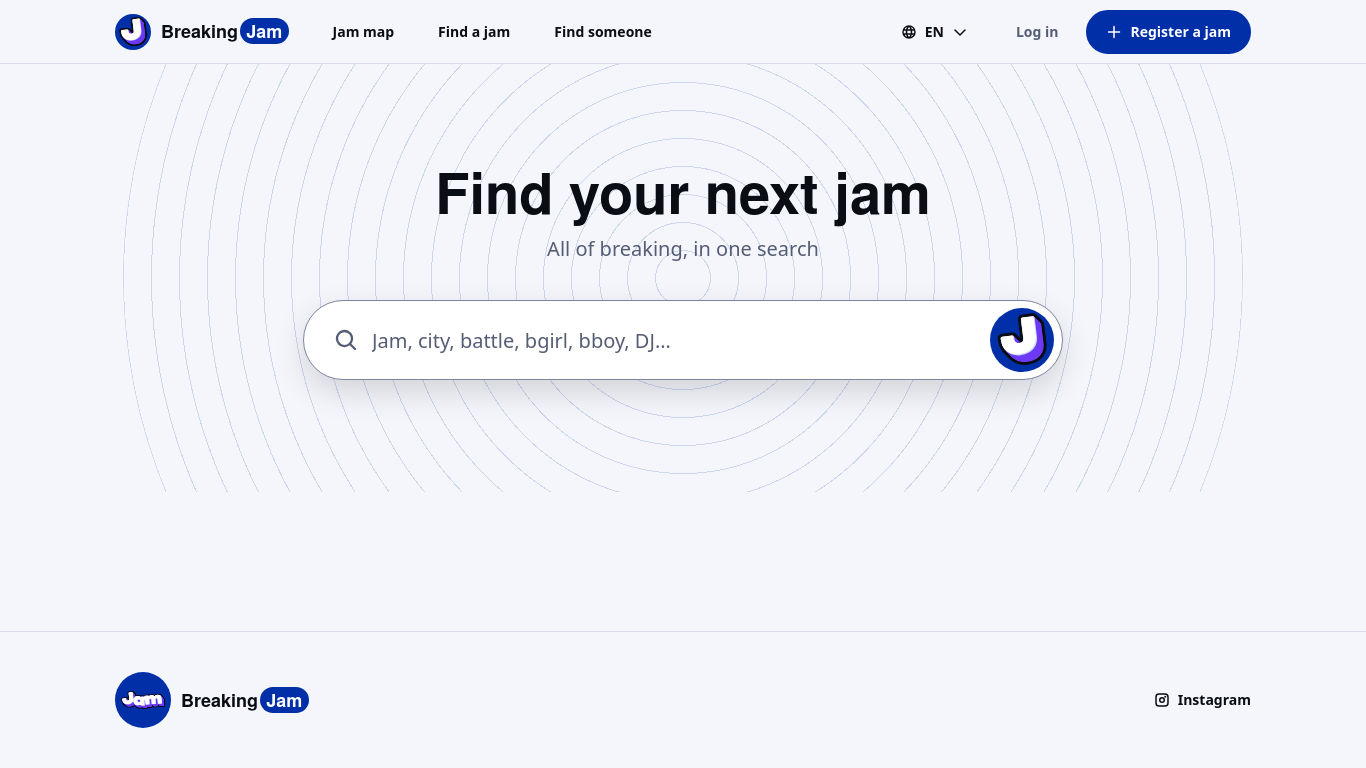
Test: Header › switches language from the listbox and remembers it
Click the button with aria-label "Language: English" at (934, 32), box [881,10,988,54]
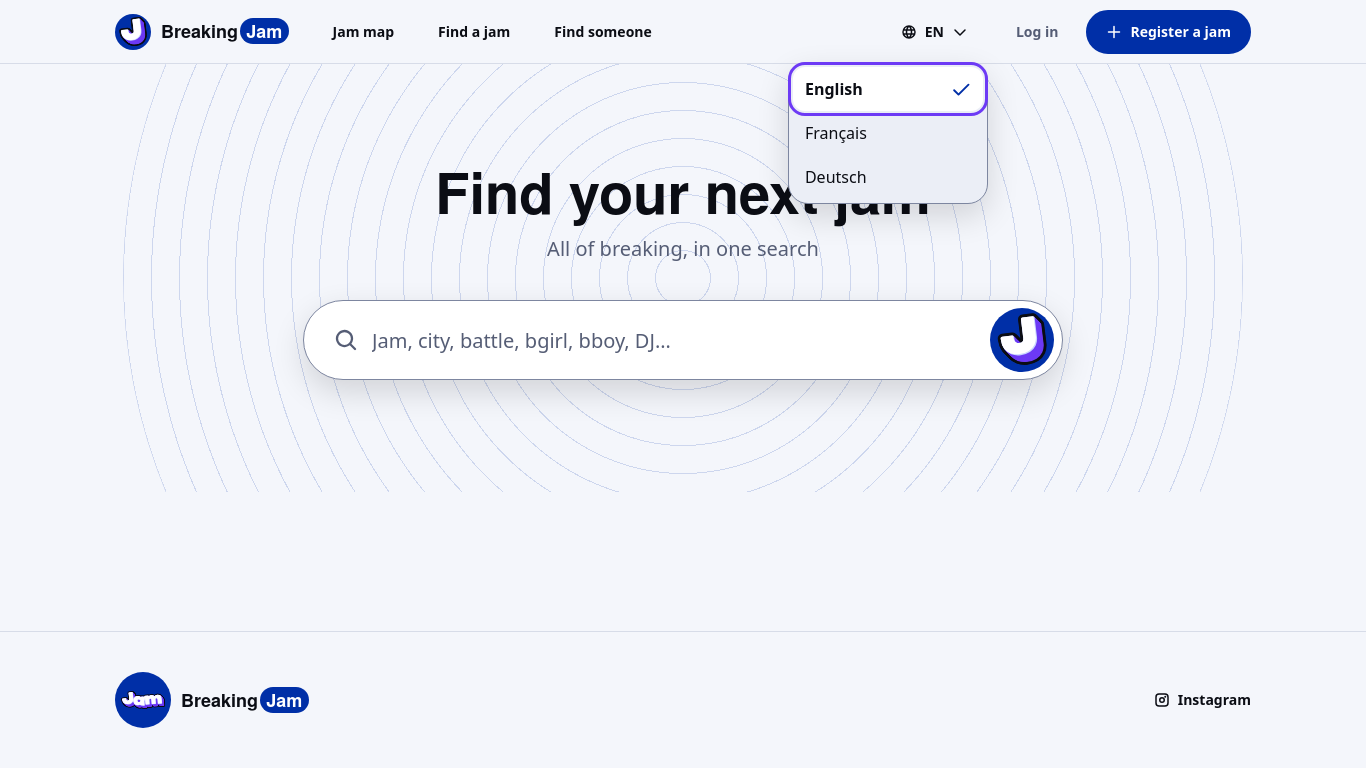
Click the option "Français" at (836, 132), box [805,122,867,144]
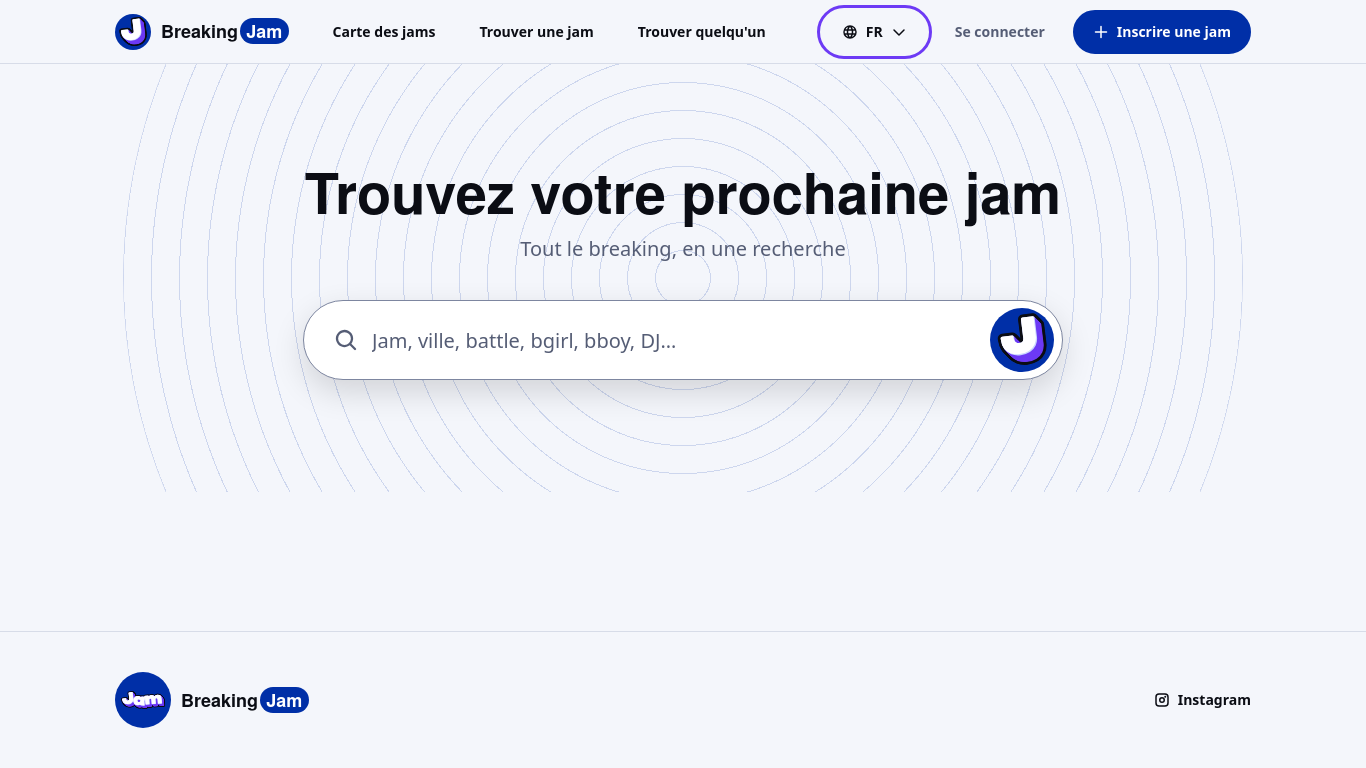
Result: the link "Trouver une jam" is shown at [479,22,594,40]
